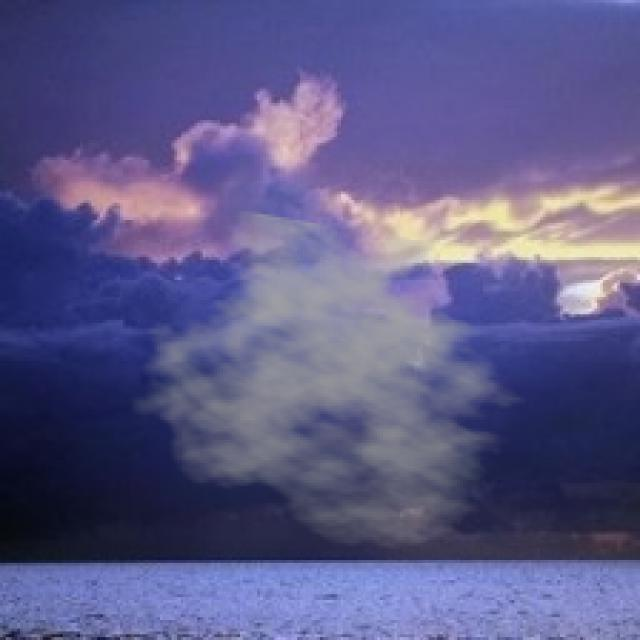Smoke: (126, 208, 543, 552)
